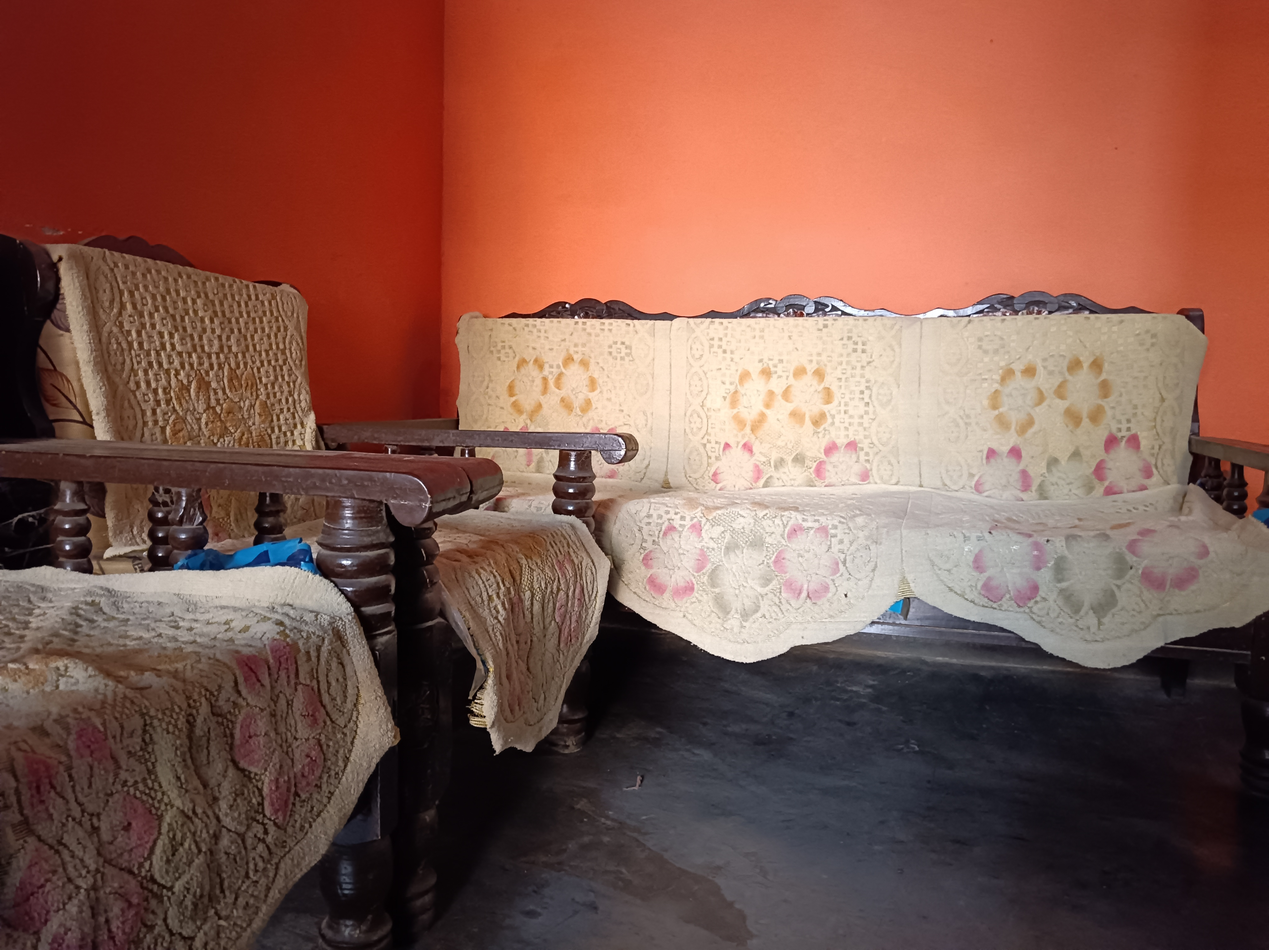sofa: (19, 234, 637, 804), (441, 297, 1269, 700), (0, 433, 474, 950)
